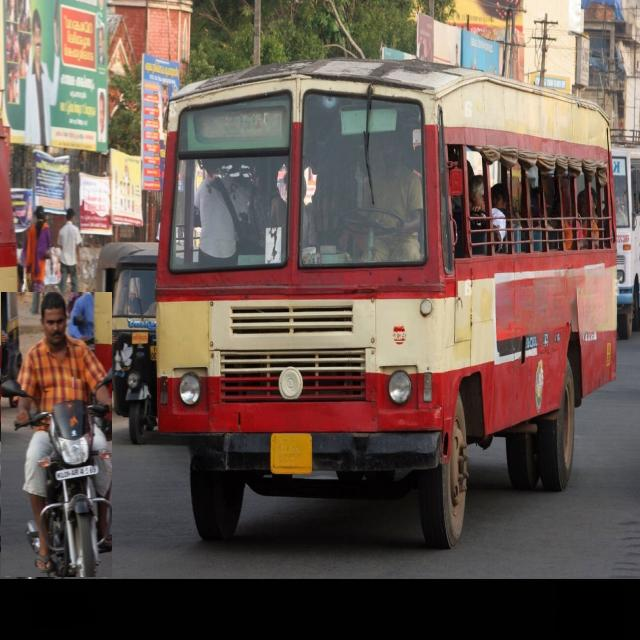autorickshaw: (110, 251, 156, 444)
bus: (156, 59, 619, 547)
motorcycle: (1, 293, 111, 577)
